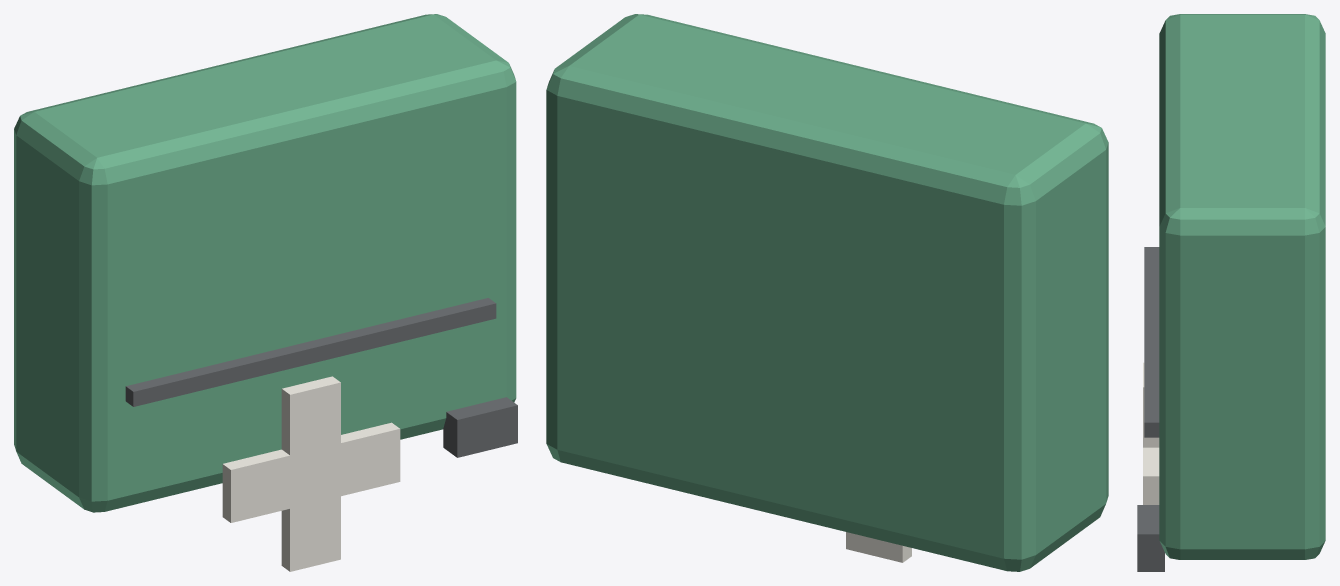
Rendered from woodworking-workshop-and-joinery-woodworking-workshop--26722f2b__34271.glb.
3 renders of one model, left to right at view 1: azimuth 30°, elevation 25°; view 2: azimuth 150°, elevation 25°; view 3: azimuth 270°, elevation 25°, orthographic. The views are drawn at different scales.
Parts seen in each view (by area): view 1: woodworking-workshop-and-joinery-first-aid-box; view 2: woodworking-workshop-and-joinery-first-aid-box; view 3: woodworking-workshop-and-joinery-first-aid-box.
Part boxes in pixels (box(x1,y1,x2,y2)): woodworking-workshop-and-joinery-first-aid-box: box(14, 14, 517, 571); woodworking-workshop-and-joinery-first-aid-box: box(546, 14, 1108, 571); woodworking-workshop-and-joinery-first-aid-box: box(1137, 14, 1325, 571).
Bounding box in the file's own units: 0.36 × 0.35 × 0.136.
